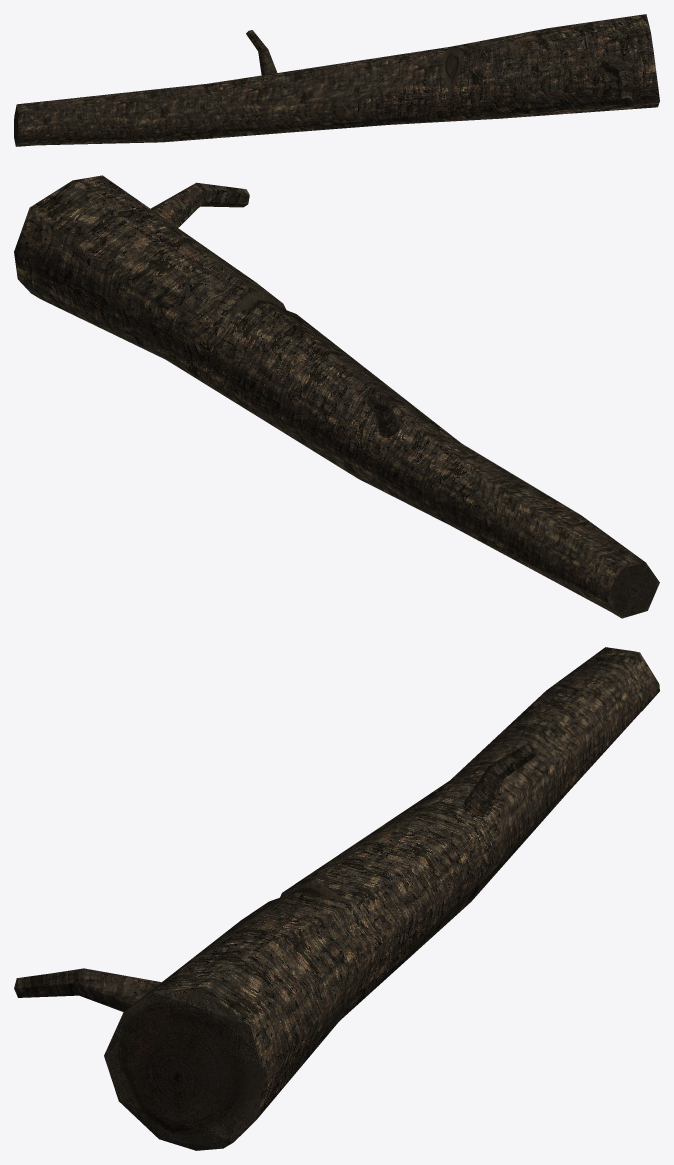
File: tree_log_1.glb
The picture shows the model from 3 angles, top to bottom: view 1: azimuth 30°, elevation 25°; view 2: azimuth 150°, elevation 25°; view 3: azimuth 270°, elevation 25°; orthographic projection. The views are drawn at different scales.
Parts seen in each view (by area): view 1: tree_log_1; view 2: tree_log_1; view 3: tree_log_1.
Part boxes in pixels (bbox=[...]): tree_log_1: bbox=[14, 14, 659, 146]; tree_log_1: bbox=[14, 175, 659, 618]; tree_log_1: bbox=[14, 647, 659, 1150].
Bounding box in the file's own units: 3.3 × 0.5574 × 1.93.
Materials: 2 (2 with a texture image).
